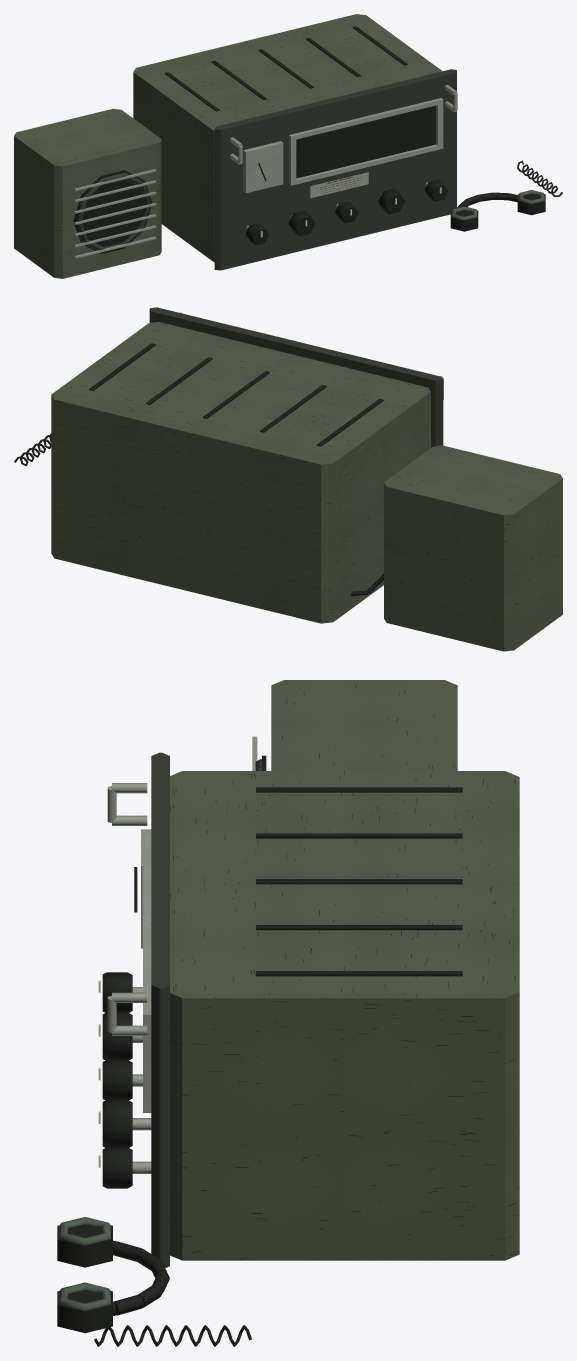
File: SM_FieldKit_Receiver_LOD2.glb
3 views of the same model, one above another, from view 1: azimuth 30°, elevation 25°; view 2: azimuth 150°, elevation 25°; view 3: azimuth 270°, elevation 25° (orthographic). The views are drawn at different scales.
Visible parts, largest first — view 1: SM_FieldKit_Receiver_LOD2; view 2: SM_FieldKit_Receiver_LOD2; view 3: SM_FieldKit_Receiver_LOD2.
Boxes of the visible parts, x1,y1,x2,y2 form: SM_FieldKit_Receiver_LOD2: (14,14,562,278); SM_FieldKit_Receiver_LOD2: (14,307,562,651); SM_FieldKit_Receiver_LOD2: (57,680,519,1346).
Bounding box in the file's own units: 1.03 × 0.309 × 0.4468.
7 materials, 3 textured.
